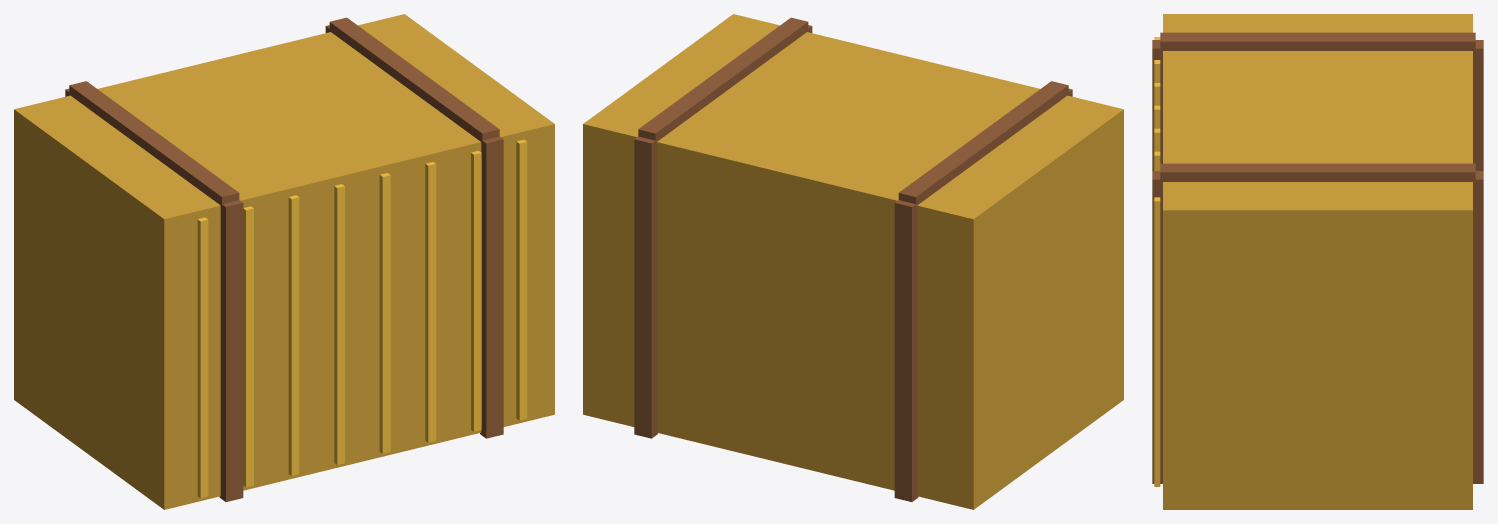
The model's file is hay_bale.glb.
The picture shows the model from 3 angles, left to right: view 1: azimuth 30°, elevation 25°; view 2: azimuth 150°, elevation 25°; view 3: azimuth 270°, elevation 25°; orthographic projection. The views are drawn at different scales.
Visible parts, largest first — view 1: body__hay.001, body__yellow2.002, body__wood.002; view 2: body__hay.001, body__wood.002; view 3: body__hay.001, body__wood.002, body__yellow2.002.
Part boxes in pixels (box(x1,y1,x2,y2)): body__hay.001: box(14, 14, 554, 509); body__yellow2.002: box(197, 139, 527, 498); body__wood.002: box(65, 17, 503, 501); body__hay.001: box(583, 14, 1123, 509); body__wood.002: box(634, 17, 1072, 501); body__hay.001: box(1163, 14, 1472, 509); body__wood.002: box(1152, 32, 1483, 483); body__yellow2.002: box(1154, 37, 1160, 486).
Bounding box in the file's own units: 0.9 × 0.6655 × 0.641.
